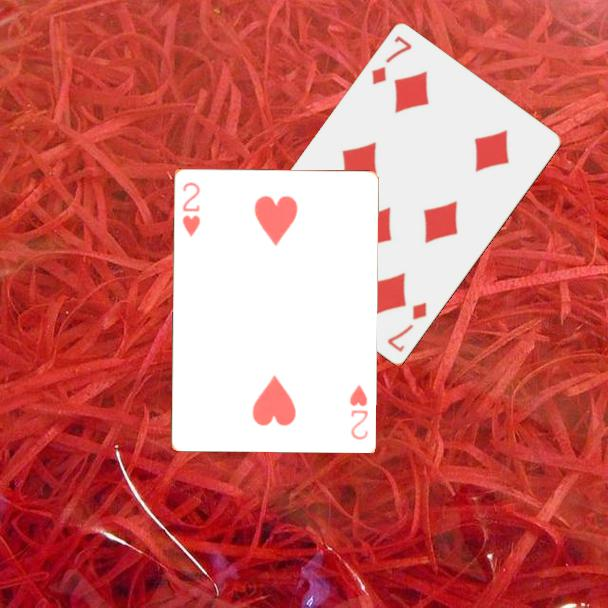d07: (368, 32, 415, 88), (384, 299, 430, 356)
h02: (346, 381, 371, 442), (179, 178, 202, 240)
